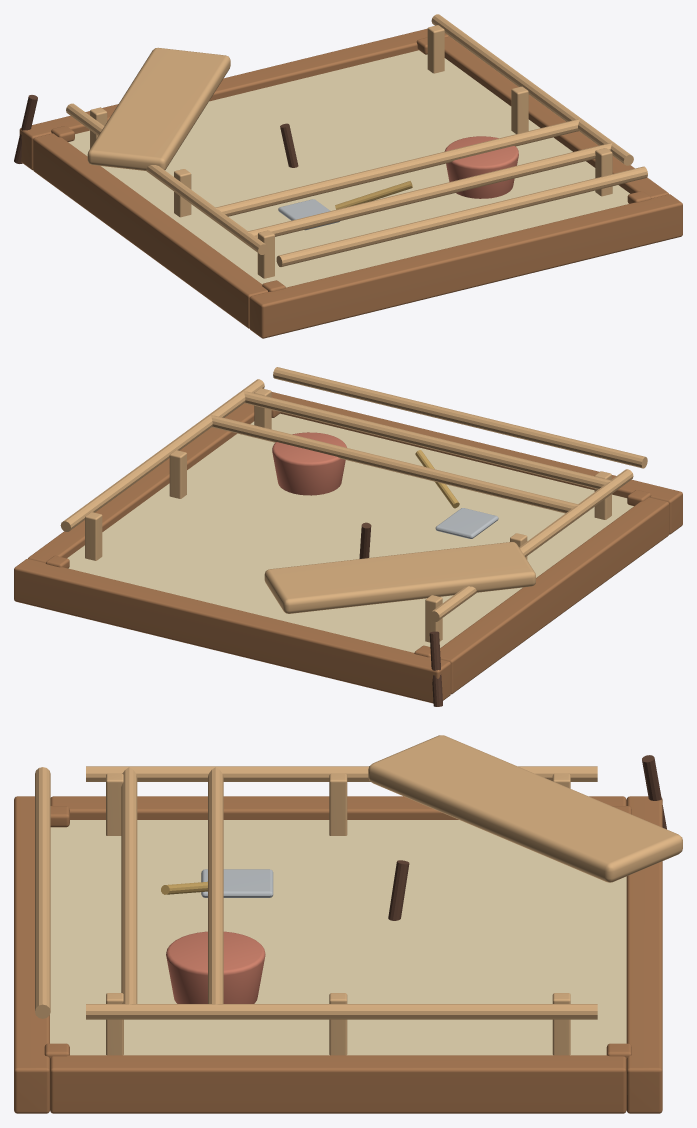
Rendered from sand_pit.glb.
The picture shows the model from 3 angles, top to bottom: view 1: azimuth 30°, elevation 25°; view 2: azimuth 150°, elevation 25°; view 3: azimuth 270°, elevation 25°; orthographic projection. The views are drawn at different scales.
Visible parts, largest first — view 1: Sand surface, Tint, Corner seat, Cover rail.002, Cover rail, Cover rail.001, Cover rail.004, Bucket, Cover rail.003, Cover frame post.003, Cover frame post.005, Spade blade (+5 smaller); view 2: Sand surface, Tint, Corner seat, Cover rail.002, Cover rail.001, Cover rail, Bucket, Cover rail.004, Cover rail.003, Spade blade, Cover frame post.003, Cover frame post.005 (+2 smaller); view 3: Sand surface, Tint, Corner seat, Cover rail.004, Bucket, Cover rail.003, Cover rail.002, Cover rail.001, Cover rail, Spade blade, Cover frame post.002, Cover frame post.001 (+5 smaller).
Boxes of the visible parts, box(x1,y1,x2,y2) form: Sand surface: box(68, 50, 629, 287); Tint: box(19, 28, 682, 338); Corner seat: box(87, 47, 230, 170); Cover rail.002: box(276, 166, 647, 266); Cover rail: box(215, 119, 579, 216); Cover rail.001: box(247, 143, 612, 238); Cover rail.004: box(431, 14, 633, 165); Bucket: box(444, 136, 518, 198); Cover rail.003: box(66, 103, 268, 254); Cover frame post.003: box(427, 25, 444, 73); Cover frame post.005: box(511, 86, 528, 133); Spade blade: box(278, 199, 339, 230); Sand surface: box(67, 413, 633, 652); Tint: box(14, 392, 682, 703); Corner seat: box(264, 542, 535, 613); Cover rail.002: box(273, 367, 647, 468); Cover rail.001: box(243, 391, 611, 489); Cover rail: box(210, 415, 578, 513); Bucket: box(272, 432, 346, 495); Cover rail.004: box(60, 379, 264, 531); Cover rail.003: box(429, 469, 633, 621); Spade blade: box(435, 508, 498, 538); Cover frame post.003: box(85, 512, 102, 560); Cover frame post.005: box(169, 450, 186, 498); Sand surface: box(50, 820, 626, 1055); Tint: box(14, 796, 662, 1113); Corner seat: box(368, 735, 682, 882); Cover rail.004: box(86, 1004, 597, 1019); Bucket: box(166, 931, 265, 1003); Cover rail.003: box(86, 766, 597, 781); Cover rail.002: box(35, 767, 50, 1018); Cover rail.001: box(121, 767, 137, 1004); Cover rail: box(208, 767, 223, 1004); Spade blade: box(201, 869, 273, 897); Cover frame post.002: box(329, 773, 347, 835); Cover frame post.001: box(106, 773, 123, 835).
Bounding box in the file's own units: 1.86 × 0.3087 × 1.86.
